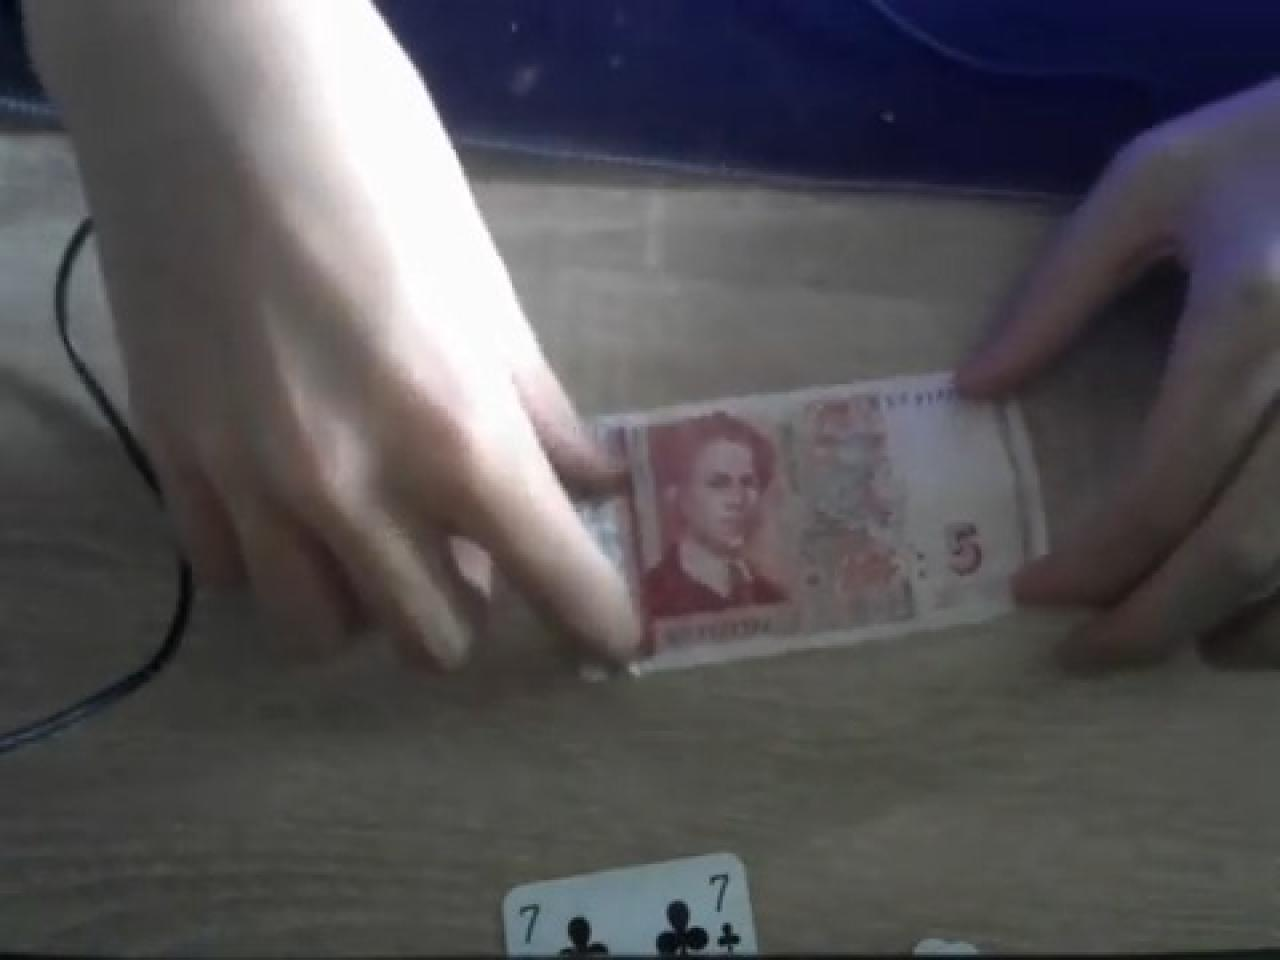5leva: (616, 376, 1056, 672)
